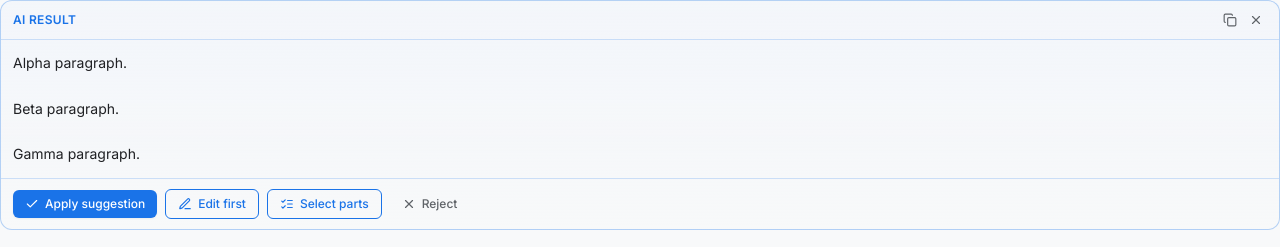
Test: AIResultCard › partial acceptance — accepting › All control re-selects all segments after deselection
Click the button "Select parts" at (324, 204), box [267,189,382,219]
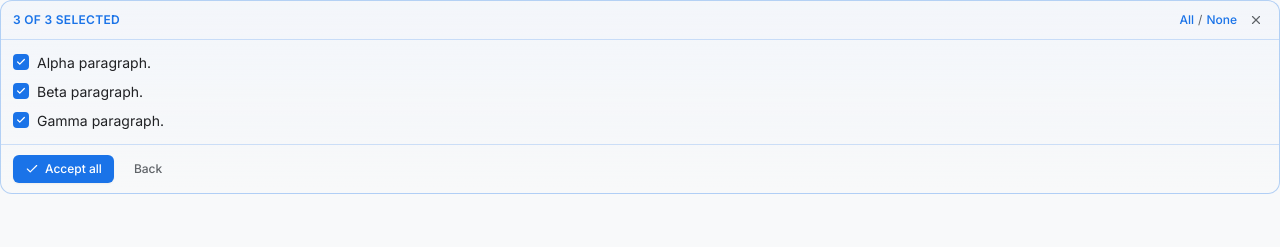
Click the button with aria-label "select no segments" at (1222, 20), box [1206,12,1237,28]
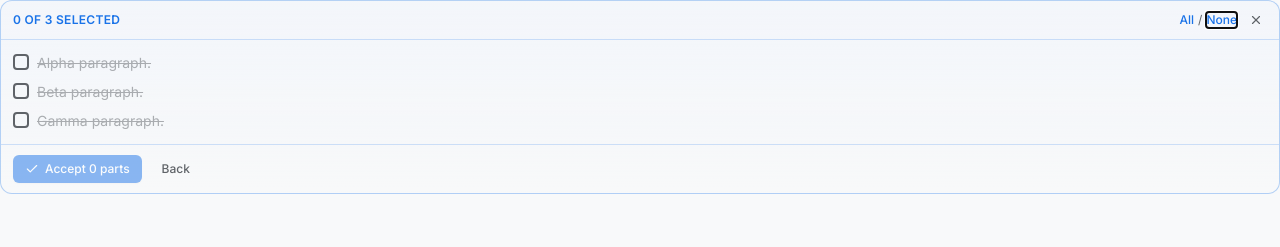
Click the button with aria-label "select all segments" at (1187, 20), box [1180,12,1194,28]
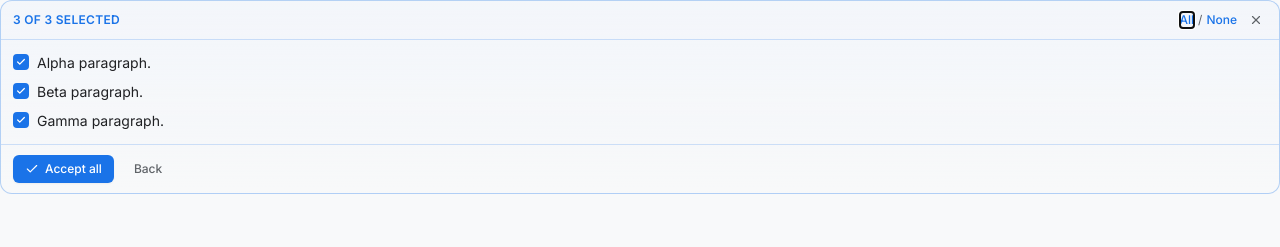
expect the text "3 of 3 selected" is shown: met, box [13,12,120,28]
